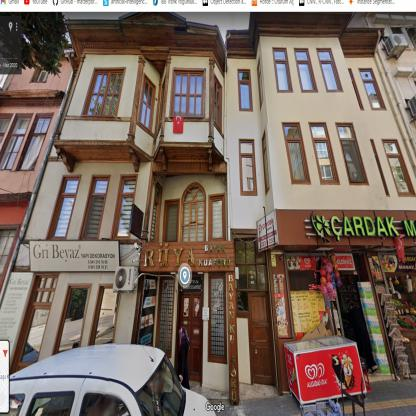door: (341, 276, 376, 368), (248, 292, 276, 385), (12, 305, 50, 372), (174, 293, 202, 381)
window: (52, 284, 92, 355), (234, 238, 268, 313), (47, 175, 80, 239), (16, 113, 53, 170), (82, 67, 125, 115), (79, 175, 109, 239), (88, 285, 120, 345), (382, 139, 415, 196), (336, 124, 367, 184), (310, 123, 340, 184), (282, 122, 310, 184), (208, 273, 227, 364), (0, 115, 32, 168), (112, 175, 138, 239), (170, 69, 204, 116), (180, 183, 206, 240), (156, 276, 174, 356), (316, 49, 342, 92), (1, 224, 19, 286), (359, 69, 385, 109), (294, 48, 317, 92), (138, 74, 156, 130), (239, 139, 256, 194), (272, 47, 292, 91), (31, 276, 58, 304), (209, 194, 225, 240), (150, 182, 162, 242), (163, 199, 179, 242), (238, 70, 253, 110), (348, 70, 362, 109), (214, 75, 222, 131), (262, 132, 269, 194), (0, 114, 13, 142), (257, 58, 263, 110), (159, 76, 165, 127), (36, 70, 48, 82)
